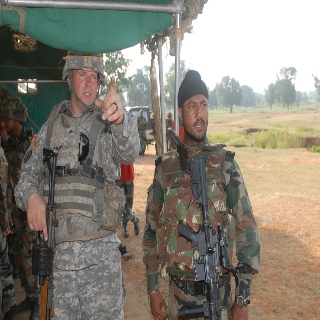rifle: (175, 144, 236, 320), (30, 145, 65, 320)
